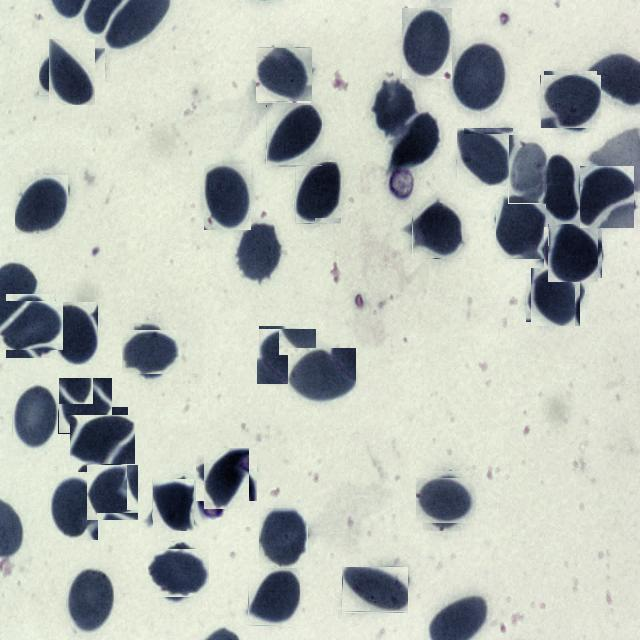red blood cell: (452, 40, 506, 114), (288, 348, 356, 405), (402, 8, 452, 79), (266, 105, 322, 167), (580, 166, 634, 228), (542, 72, 599, 130), (74, 411, 132, 468), (456, 128, 514, 185), (496, 193, 546, 259), (66, 567, 114, 635), (2, 298, 60, 354), (15, 175, 70, 234), (258, 328, 315, 384), (44, 44, 100, 100), (204, 164, 251, 230), (12, 384, 58, 451), (51, 475, 98, 540), (342, 566, 408, 612), (150, 546, 206, 600), (58, 378, 112, 434), (256, 48, 312, 102), (546, 225, 600, 280), (236, 221, 283, 284), (392, 111, 442, 170), (52, 300, 98, 364), (259, 508, 308, 568), (528, 270, 582, 324), (248, 570, 300, 626), (86, 465, 138, 521), (200, 451, 253, 505), (295, 162, 341, 224), (420, 474, 472, 528), (372, 77, 418, 138), (412, 203, 462, 259), (542, 153, 580, 225), (508, 135, 547, 204), (124, 327, 176, 378), (152, 479, 194, 532)
